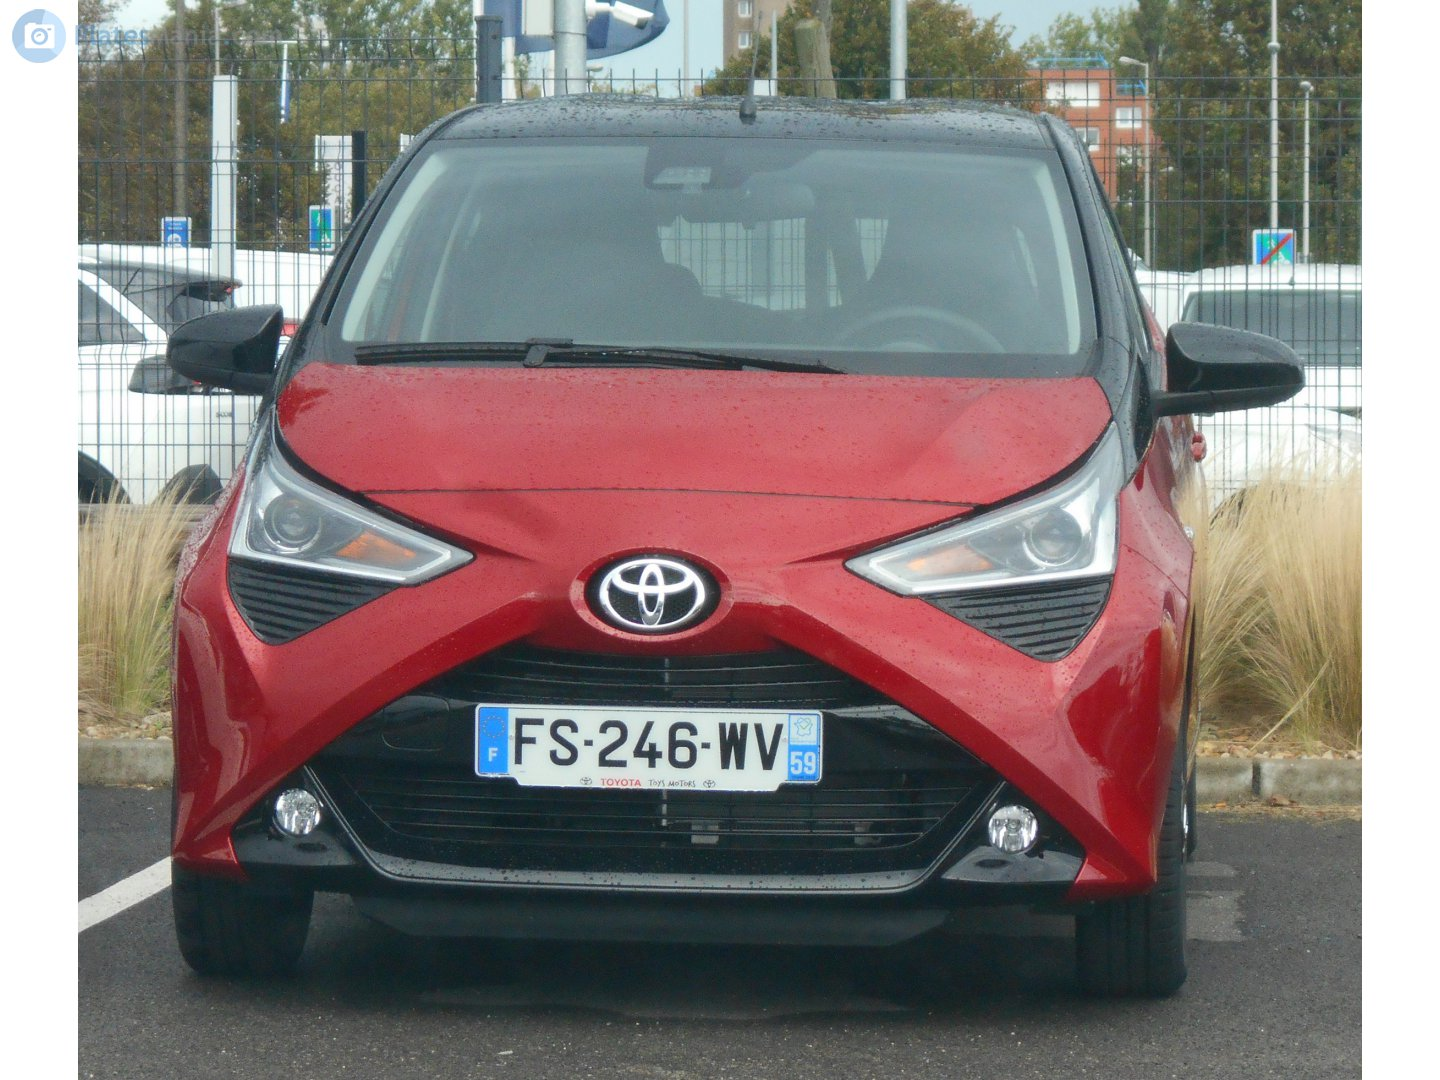licence plate: (469, 700, 836, 791)
